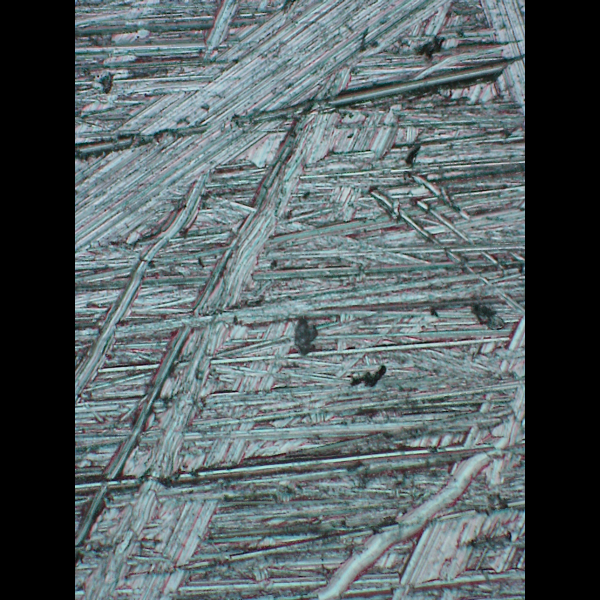d: (76, 10, 525, 599)
